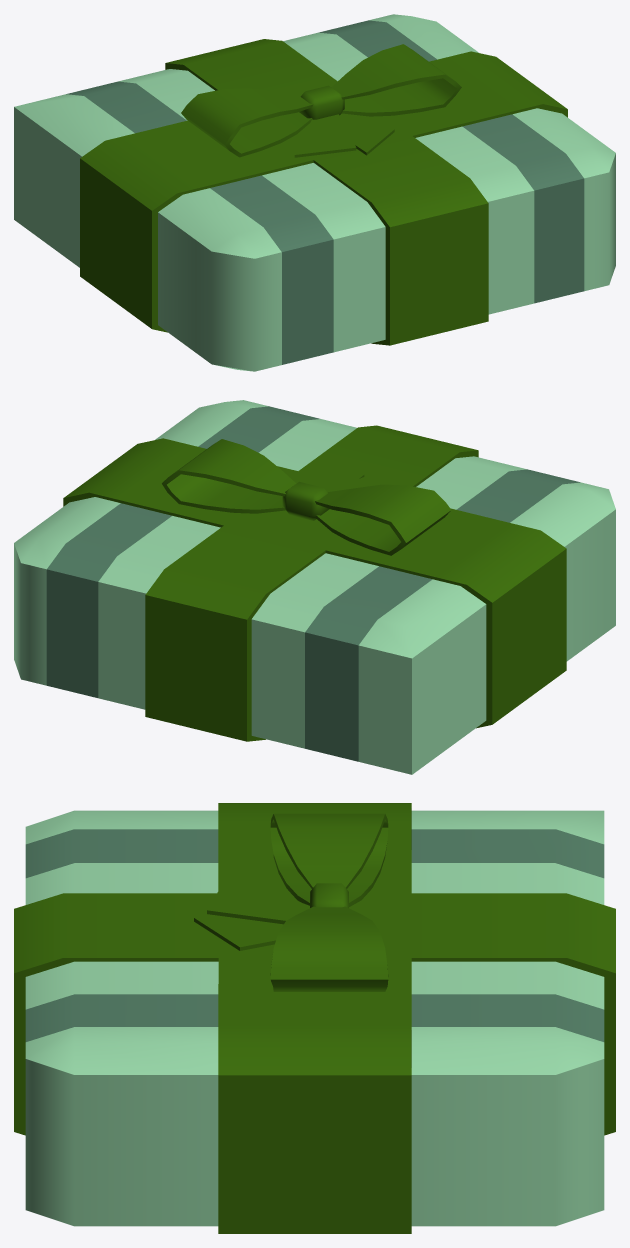
The model's file is Gift_26_231109.glb.
The picture shows the model from 3 angles, top to bottom: view 1: azimuth 30°, elevation 25°; view 2: azimuth 150°, elevation 25°; view 3: azimuth 270°, elevation 25°; orthographic projection. The views are drawn at different scales.
Visible parts, largest first — view 1: Gift_26; view 2: Gift_26; view 3: Gift_26.
Boxes of the visible parts, left/top/right/bottom form: Gift_26: left=14, top=14, right=615, bottom=371; Gift_26: left=14, top=400, right=615, bottom=774; Gift_26: left=14, top=803, right=615, bottom=1233.
Bounding box in the file's own units: 0.7127 × 0.2869 × 0.666.
1 material, 1 textured.
